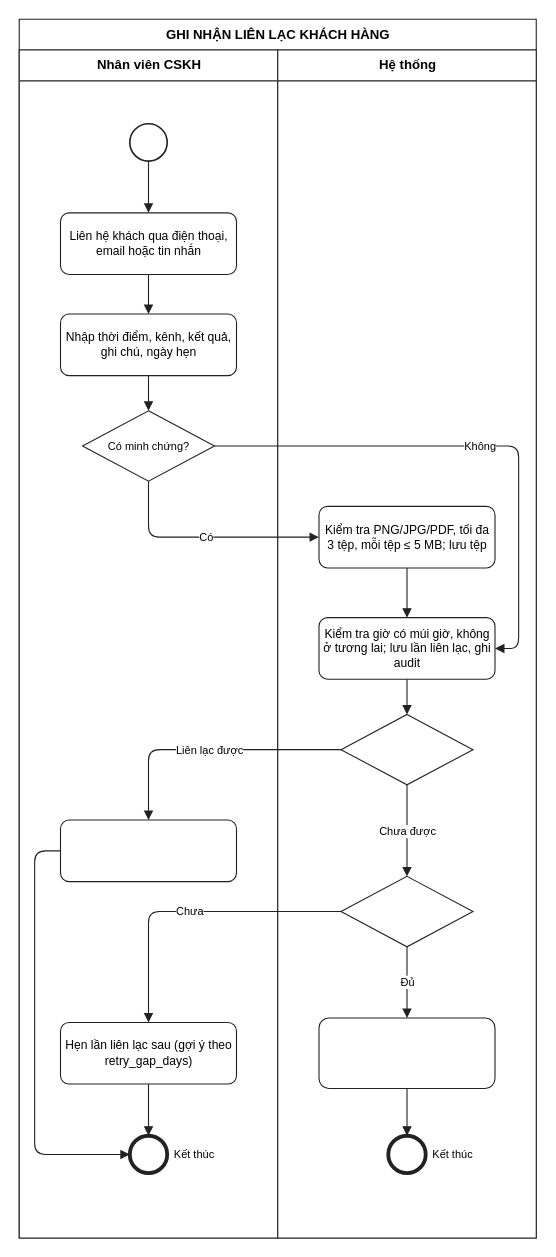
The diagram is 556 pixels wide and 1257 high, and some of its shapes have lost their labels. The centre of each missing label's shape, as x and y in pixels:
"Bắt đầu" goes at pixel 148 141.
"Hoàn tất đơn, chọn kết quả" goes at pixel 148 850.
"Hết lượt?" goes at pixel 406 911.
"Kết quả?" goes at pixel 406 749.
"Đã đủ max_contact lần: tự đóng SKIPPED / UNREACHABLE" goes at pixel 406 1052.
